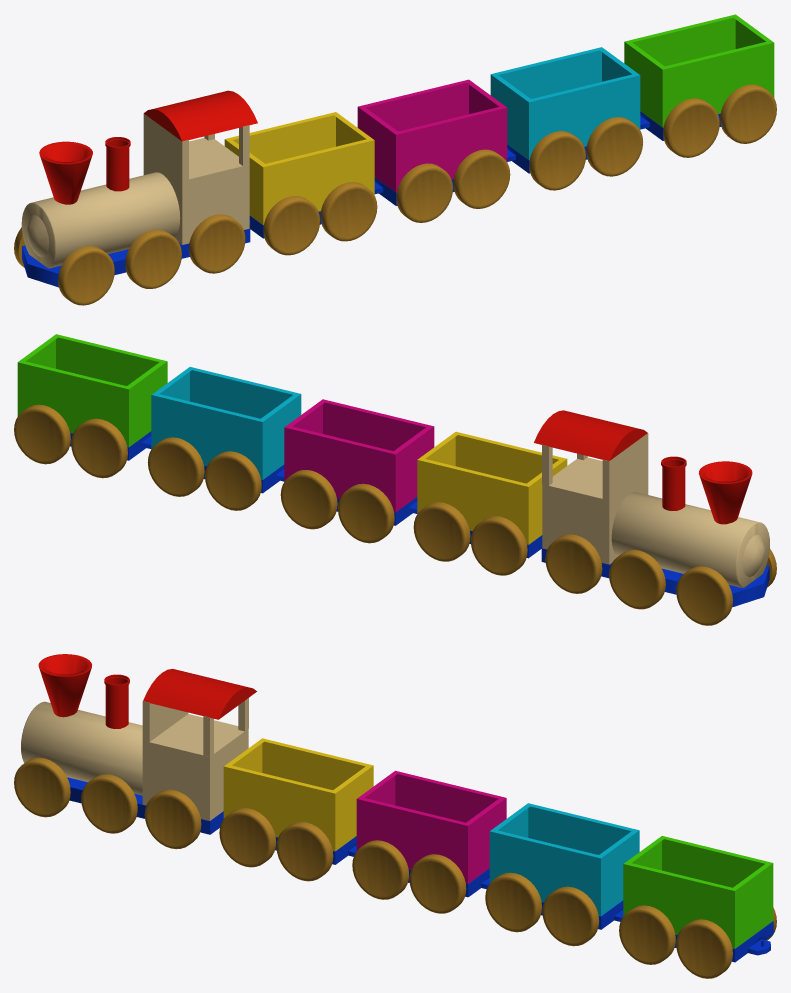
Rendered from Trem.fbx.
3 views of the same model, one above another, from view 1: azimuth 30°, elevation 25°; view 2: azimuth 150°, elevation 25°; view 3: azimuth 330°, elevation 25° (orthographic).
Parts seen in each view (by area): view 1: cylinder20_cylinder20_default8_1.003, Tube12_Tube12_default_1, cube1_cube1_cube1_auv_1.003, cube1_cube1_cube1_auv_1.002, cube1_cube1_cube1_auv_1.001, cube1_cube1_cube1_auv_1; view 2: cylinder20_cylinder20_default8_1.003, Tube12_Tube12_default_1, cube1_cube1_cube1_auv_1.003, cube1_cube1_cube1_auv_1.001, cube1_cube1_cube1_auv_1.002, cube1_cube1_cube1_auv_1; view 3: cylinder20_cylinder20_default8_1.003, Tube12_Tube12_default_1, cube1_cube1_cube1_auv_1.003, cube1_cube1_cube1_auv_1.002, cube1_cube1_cube1_auv_1.001, cube1_cube1_cube1_auv_1.
Part boxes in pixels (bbox=[...]): cylinder20_cylinder20_default8_1.003: bbox=[14, 84, 776, 305]; Tube12_Tube12_default_1: bbox=[21, 90, 257, 268]; cube1_cube1_cube1_auv_1.003: bbox=[624, 14, 774, 127]; cube1_cube1_cube1_auv_1.002: bbox=[490, 47, 640, 160]; cube1_cube1_cube1_auv_1.001: bbox=[357, 79, 507, 192]; cube1_cube1_cube1_auv_1: bbox=[224, 112, 374, 224]; cylinder20_cylinder20_default8_1.003: bbox=[14, 404, 776, 625]; Tube12_Tube12_default_1: bbox=[534, 410, 769, 587]; cube1_cube1_cube1_auv_1.003: bbox=[17, 334, 167, 447]; cube1_cube1_cube1_auv_1.001: bbox=[284, 399, 434, 512]; cube1_cube1_cube1_auv_1.002: bbox=[151, 367, 301, 479]; cube1_cube1_cube1_auv_1: bbox=[417, 431, 567, 544]; cylinder20_cylinder20_default8_1.003: bbox=[14, 757, 776, 978]; Tube12_Tube12_default_1: bbox=[21, 654, 256, 820]; cube1_cube1_cube1_auv_1.003: bbox=[623, 836, 773, 948]; cube1_cube1_cube1_auv_1.002: bbox=[489, 803, 639, 916]; cube1_cube1_cube1_auv_1.001: bbox=[356, 770, 506, 883]; cube1_cube1_cube1_auv_1: bbox=[223, 738, 373, 851].
Size of the model in its own units: 7362 by 1426 by 856.
